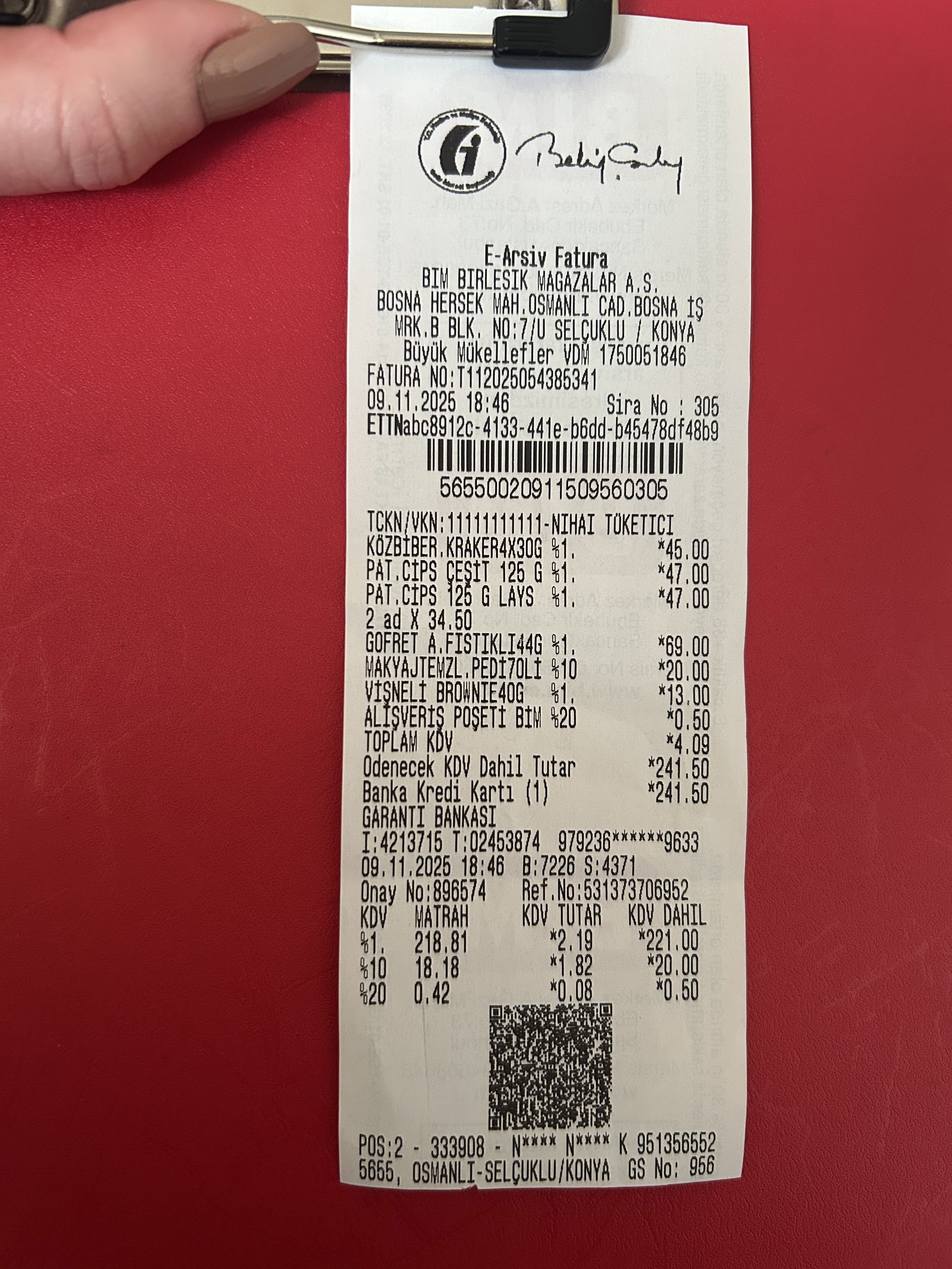date: (360, 387, 459, 414)
price: (654, 754, 713, 781)
workplace: (355, 266, 721, 344)
